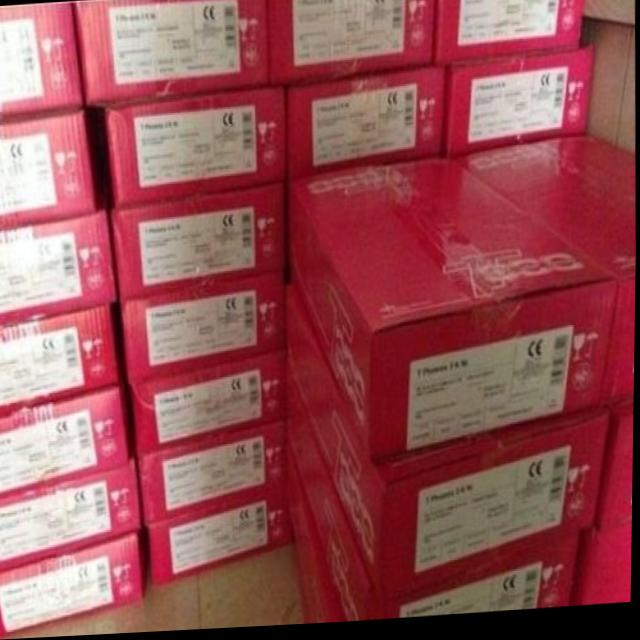box: (289, 160, 618, 467), (287, 284, 610, 592), (285, 359, 580, 625), (450, 137, 636, 415), (108, 88, 287, 211), (112, 184, 289, 305), (72, 0, 270, 107), (120, 275, 287, 387), (286, 71, 447, 180), (445, 51, 595, 162), (131, 353, 285, 461), (0, 385, 132, 500), (0, 533, 144, 637), (0, 464, 143, 568), (267, 0, 437, 87), (138, 426, 284, 527), (0, 210, 119, 328), (149, 487, 287, 588), (0, 306, 120, 414), (0, 110, 97, 228), (285, 439, 345, 627), (434, 0, 584, 71), (0, 1, 85, 120), (597, 406, 635, 538)
